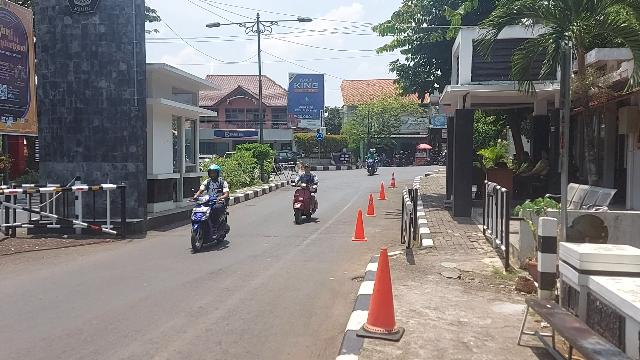helm: (208, 165, 223, 180)
motor: (188, 189, 232, 254), (291, 181, 320, 225)
non-helm: (304, 165, 312, 174)
